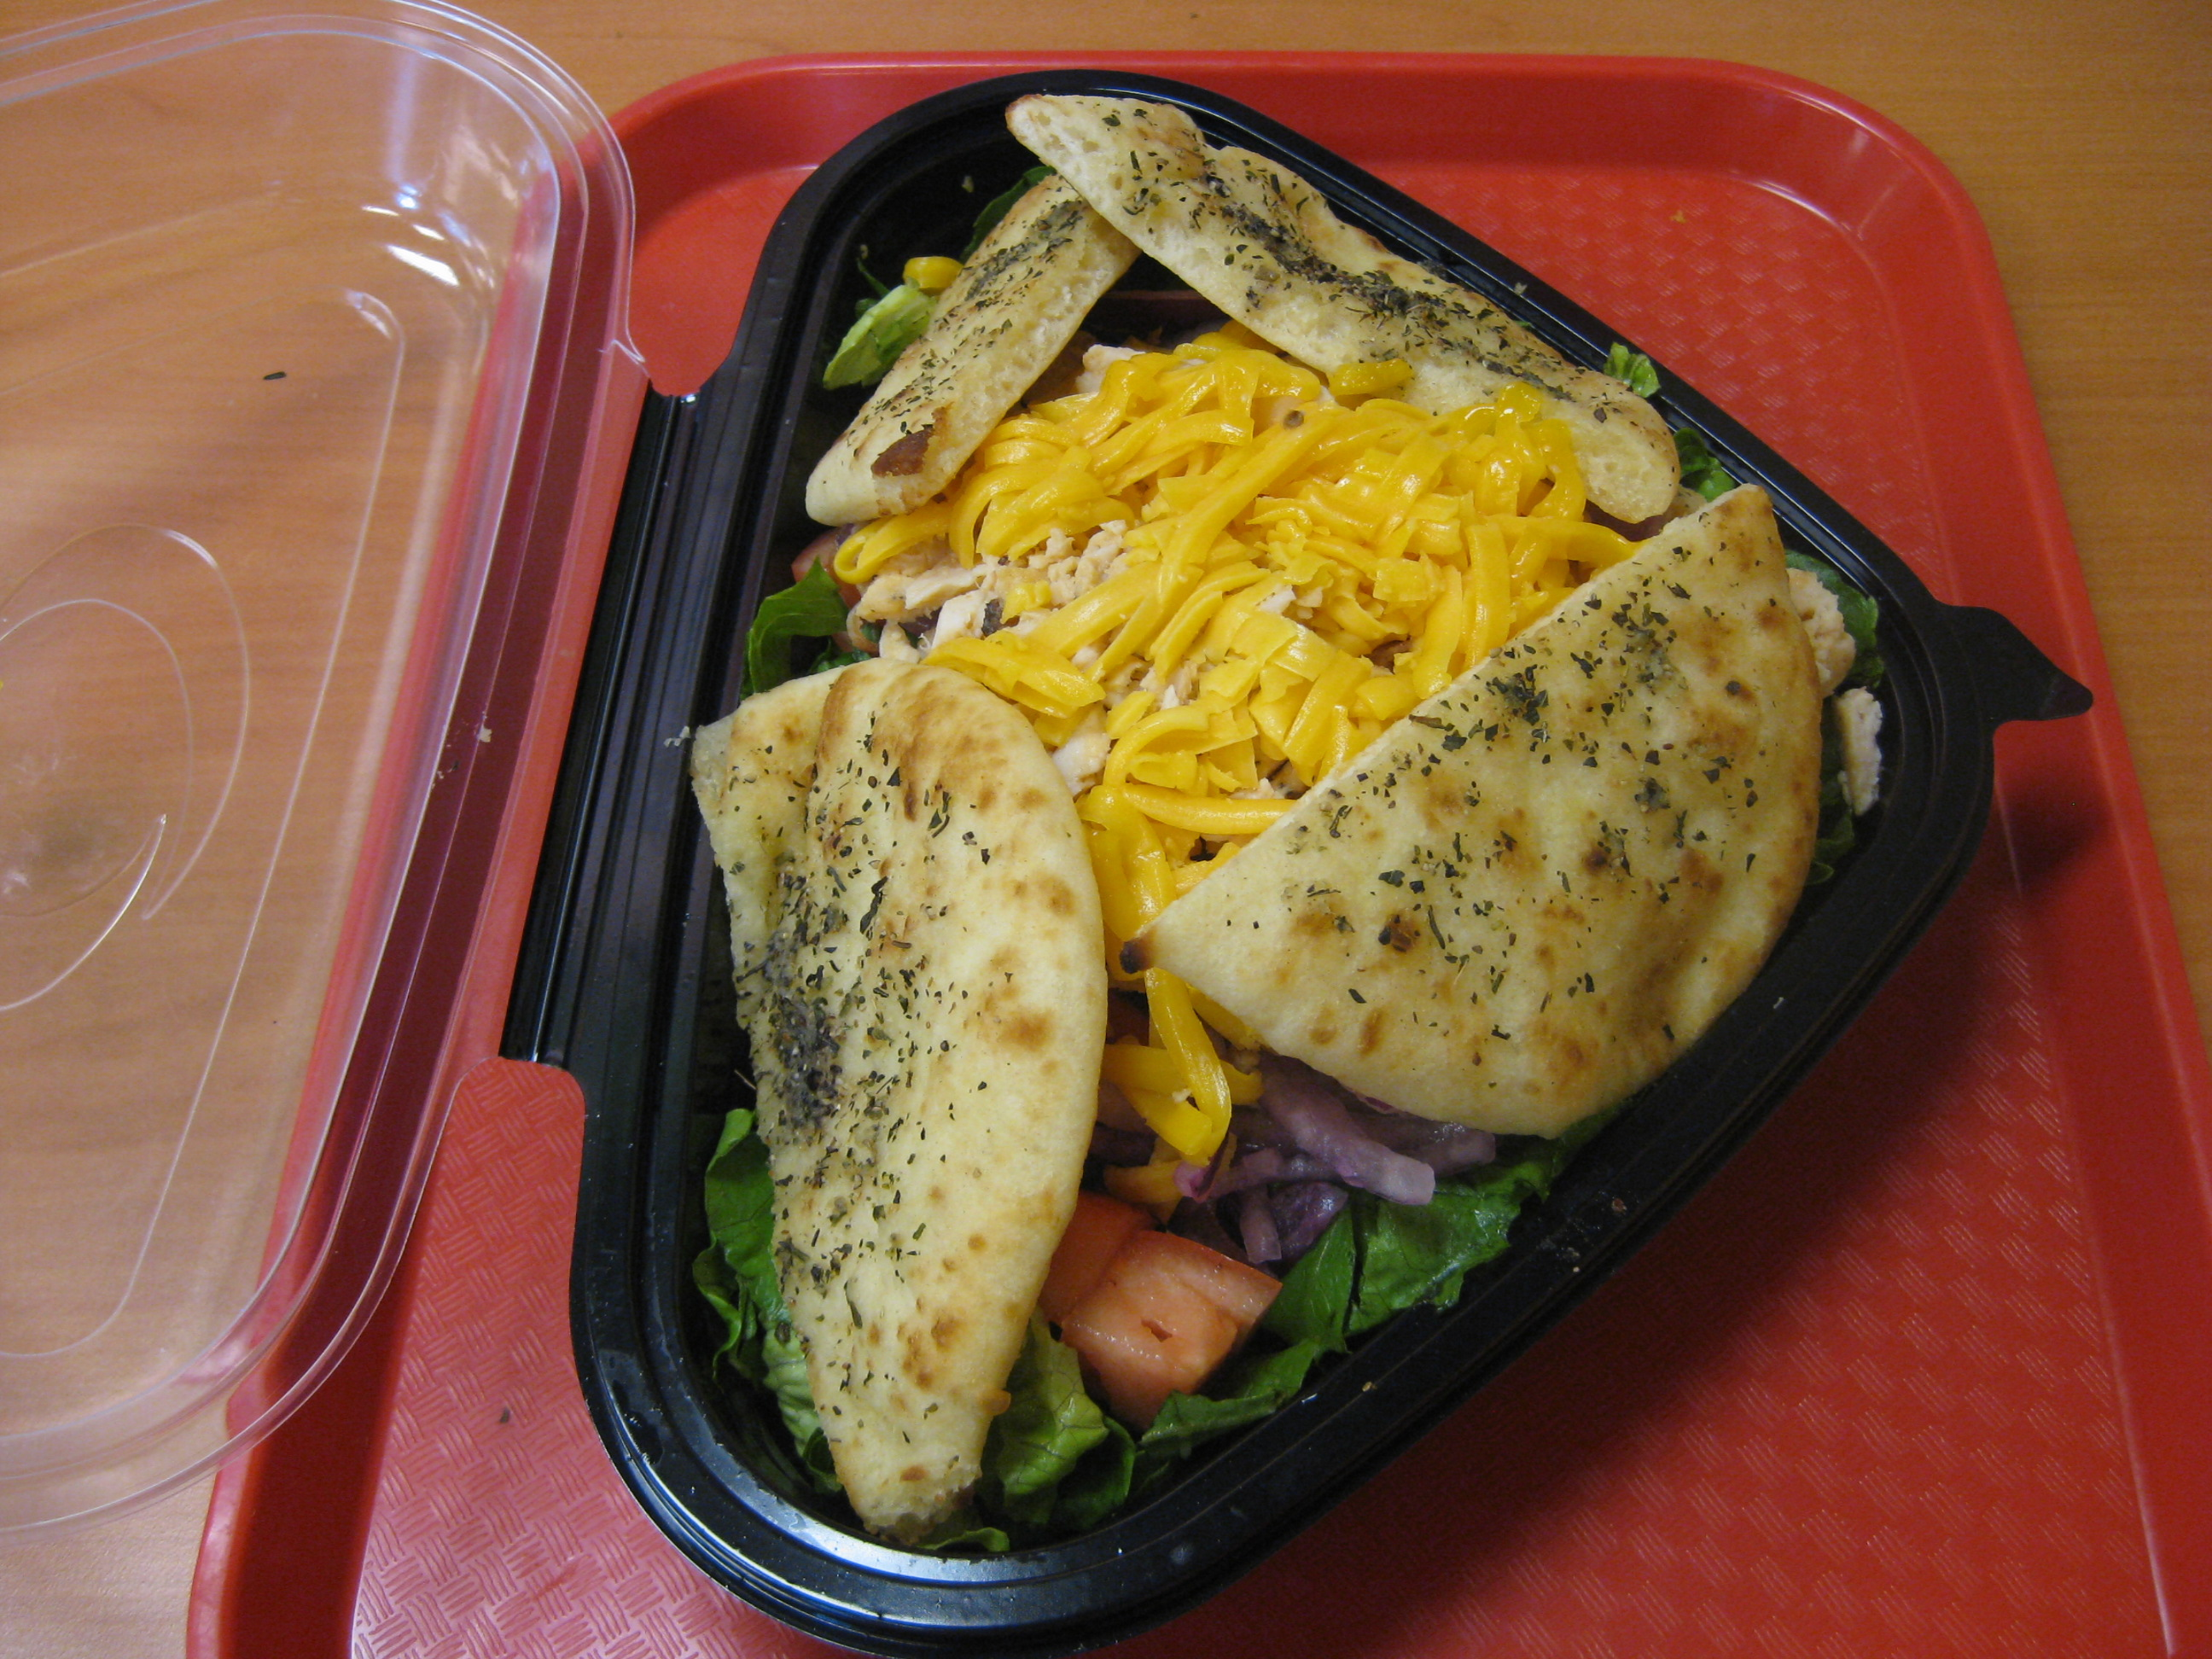salad: (707, 88, 1877, 1539)
